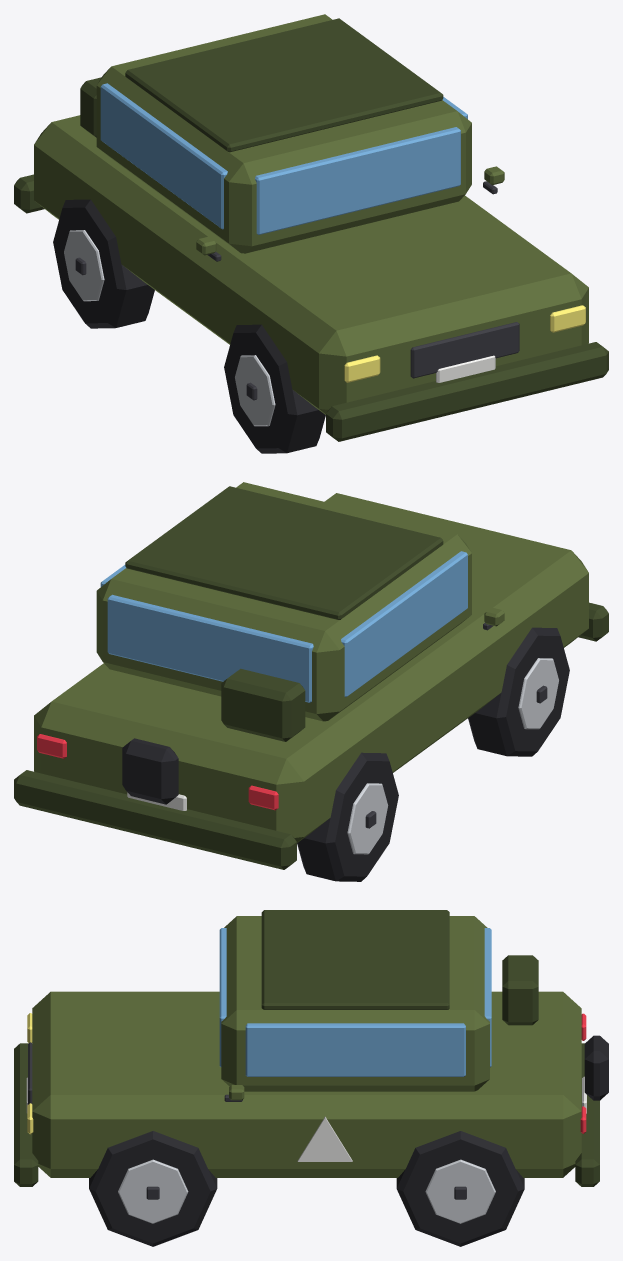
File: MilitaryJeep.fbx
3 views of the same model, one above another, from view 1: azimuth 30°, elevation 25°; view 2: azimuth 150°, elevation 25°; view 3: azimuth 270°, elevation 25° (orthographic). The views are drawn at different scales.
Visible parts, largest first — view 1: MilitaryJeep, MilitaryJeep_WheelBR, MilitaryJeep_WheelFR; view 2: MilitaryJeep, MilitaryJeep_WheelFR, MilitaryJeep_WheelBR; view 3: MilitaryJeep, MilitaryJeep_WheelFL, MilitaryJeep_WheelBL.
Part boxes in pixels (x1=…): MilitaryJeep: x1=14, y1=14, x2=608, y2=441; MilitaryJeep_WheelBR: x1=53, y1=199, x2=154, y2=328; MilitaryJeep_WheelFR: x1=224, y1=324, x2=325, y2=453; MilitaryJeep: x1=14, y1=482, x2=608, y2=869; MilitaryJeep_WheelFR: x1=468, y1=627, x2=569, y2=756; MilitaryJeep_WheelBR: x1=297, y1=752, x2=398, y2=881; MilitaryJeep: x1=14, y1=910, x2=608, y2=1186; MilitaryJeep_WheelFL: x1=89, y1=1131, x2=217, y2=1246; MilitaryJeep_WheelBL: x1=396, y1=1131, x2=524, y2=1246.
Bounding box in the file's own units: 5.15 × 4.18 × 9.75.
Materials: 1 (1 with a texture image).
